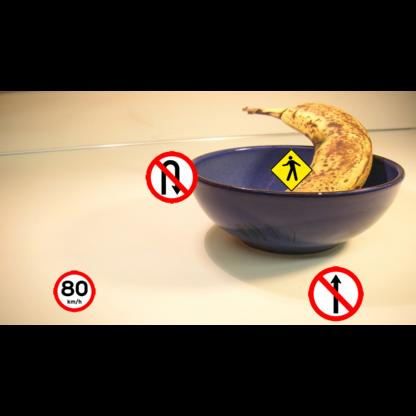A-32a: (270, 148, 313, 192)
R-19: (53, 270, 95, 313)
R-3: (308, 266, 363, 321)
